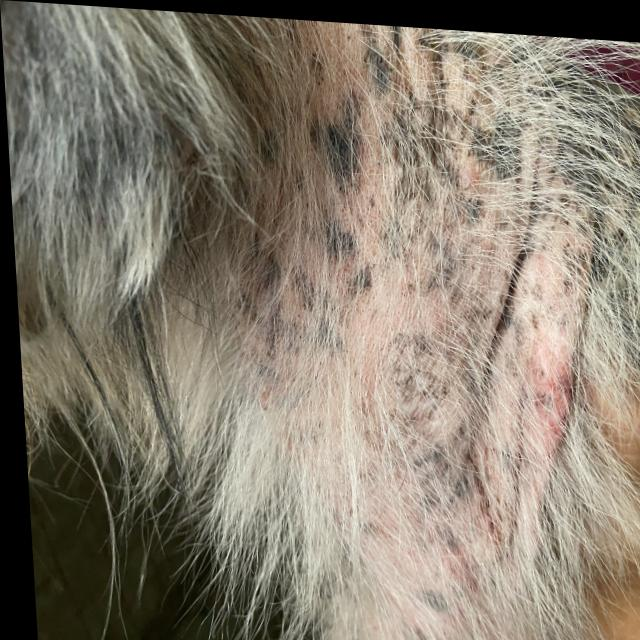demodicosis: (271, 37, 592, 539)
